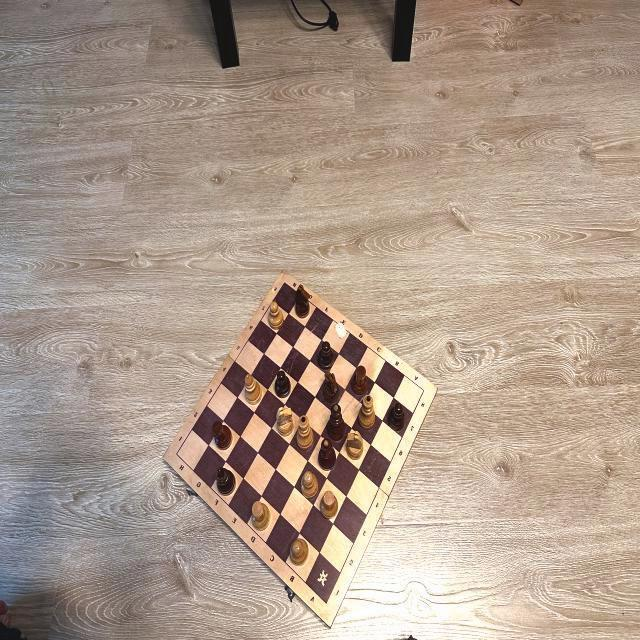chess-table-corners: (174, 451, 179, 457), (422, 388, 426, 393), (283, 280, 286, 285)
